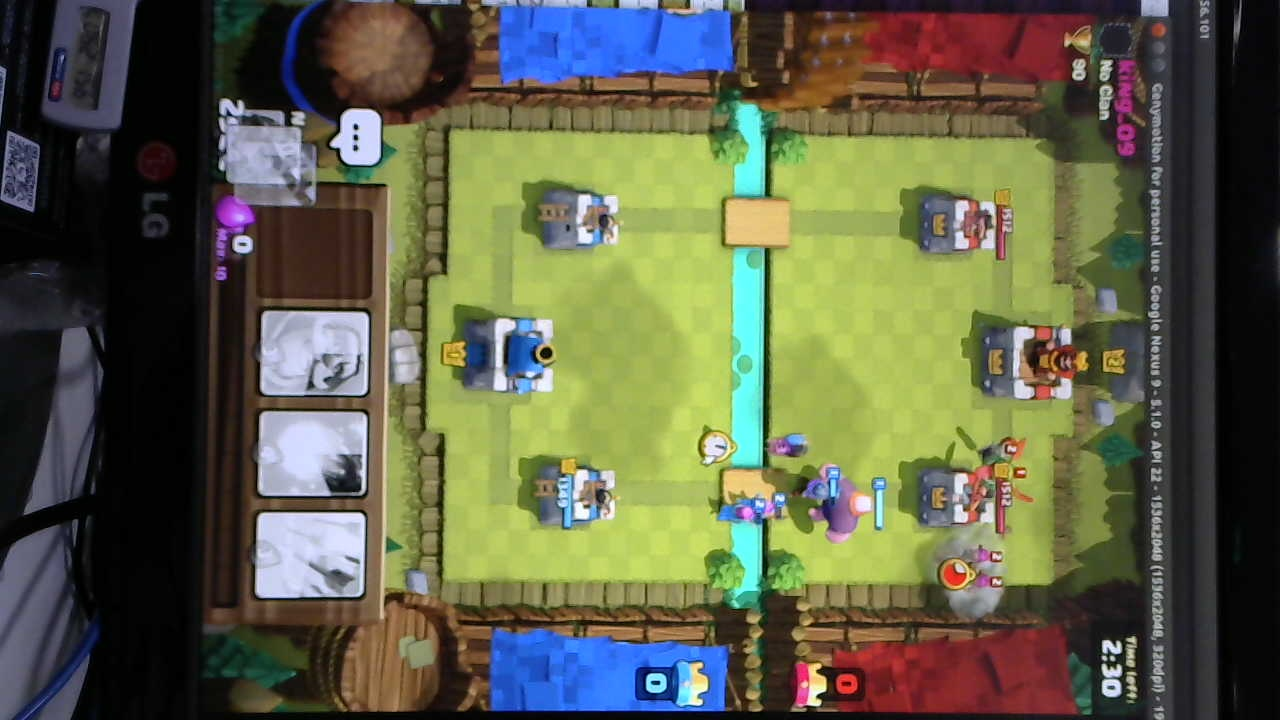archers: (705, 492, 790, 528), (962, 541, 1008, 604)
arena: (537, 463, 620, 529), (544, 193, 623, 250)
bomb: (980, 430, 1026, 471)
dragon: (985, 455, 1028, 519)
earena: (922, 193, 999, 256), (924, 467, 994, 528)
eking: (974, 315, 1089, 406)
giant: (815, 466, 873, 540)
king: (454, 311, 558, 400)
musketeer: (794, 474, 844, 509)
